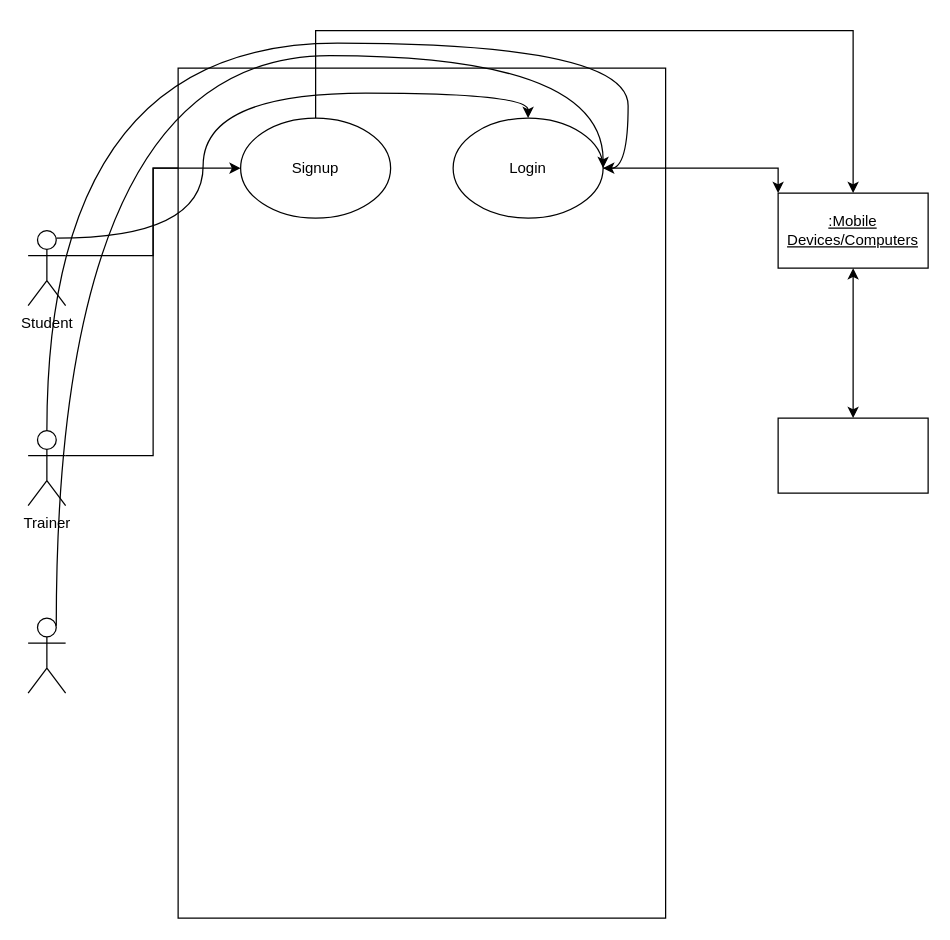
Image size: 950x940. Some labels were removed from this diagram. Here are the shapes that lost their labels. From the top down, the box of each, then its label:
(777, 417, 928, 493): :Database Servers
(27, 617, 66, 693): Admin
